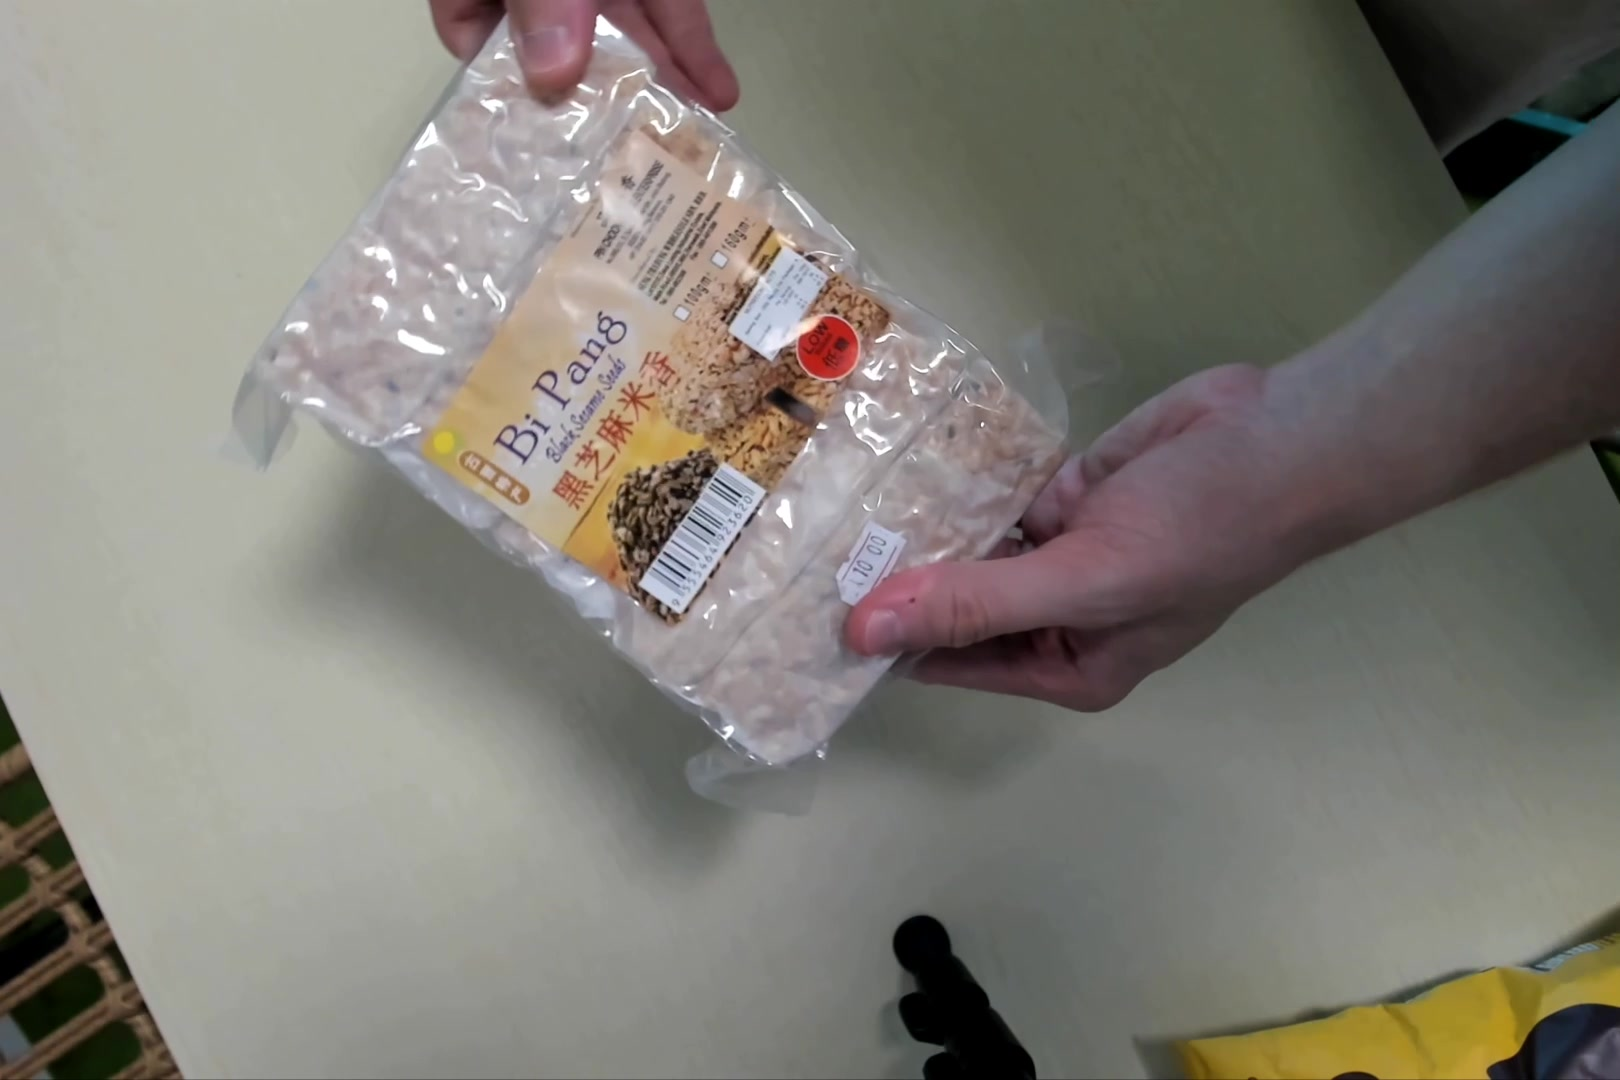PotatoChipsKeropok_100-199g_NonHalal_NonHealthy: (254, 17, 1075, 782)
